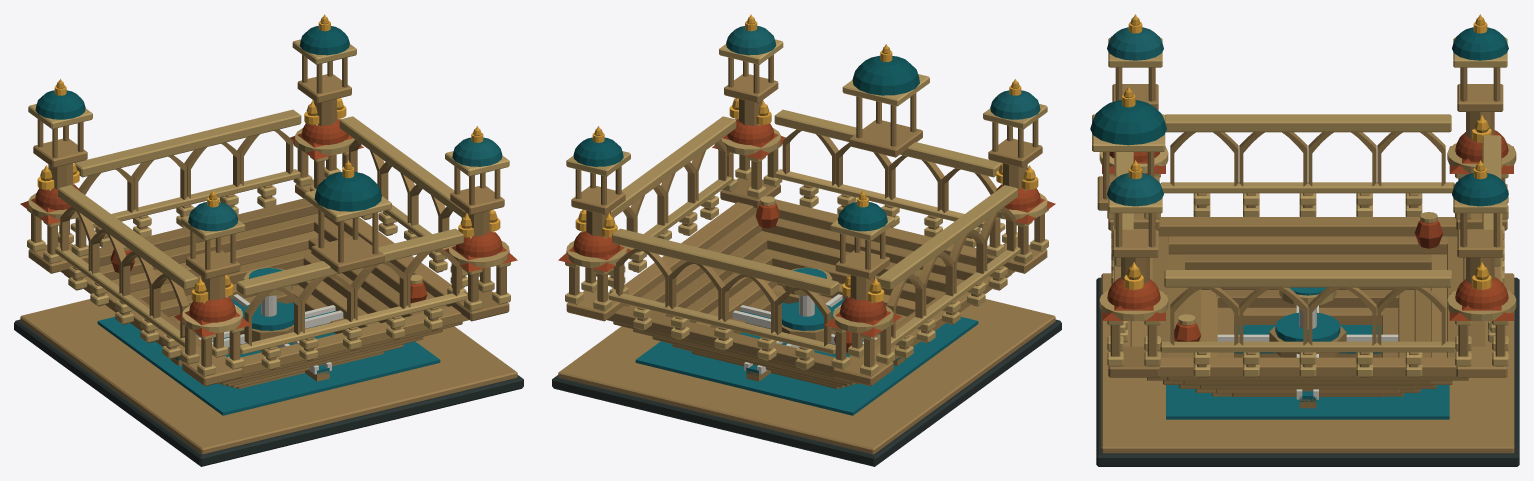
The picture shows the model from 3 angles, left to right: view 1: azimuth 30°, elevation 25°; view 2: azimuth 150°, elevation 25°; view 3: azimuth 270°, elevation 25°; orthographic projection. The views are drawn at different scales.
Visible parts, largest first — view 1: stepwell_level10_structure, stepwell_level10_metal; view 2: stepwell_level10_structure, stepwell_level10_metal; view 3: stepwell_level10_structure, stepwell_level10_metal.
Boxes of the visible parts, x1,y1,x2,y2 form: stepwell_level10_structure: (14, 17, 523, 466); stepwell_level10_metal: (37, 14, 500, 302); stepwell_level10_structure: (552, 17, 1061, 466); stepwell_level10_metal: (575, 14, 1038, 302); stepwell_level10_structure: (1090, 17, 1519, 466); stepwell_level10_metal: (1122, 14, 1491, 289).
Size of the model in its own units: 5.6 by 4.26 by 5.68.
